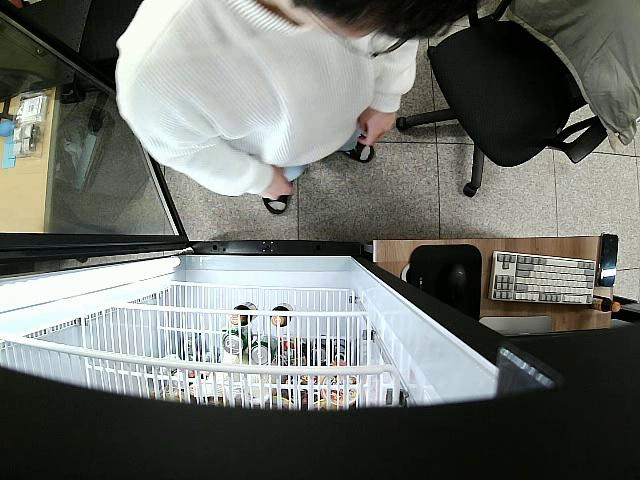00_hand: (359, 108, 396, 144)
